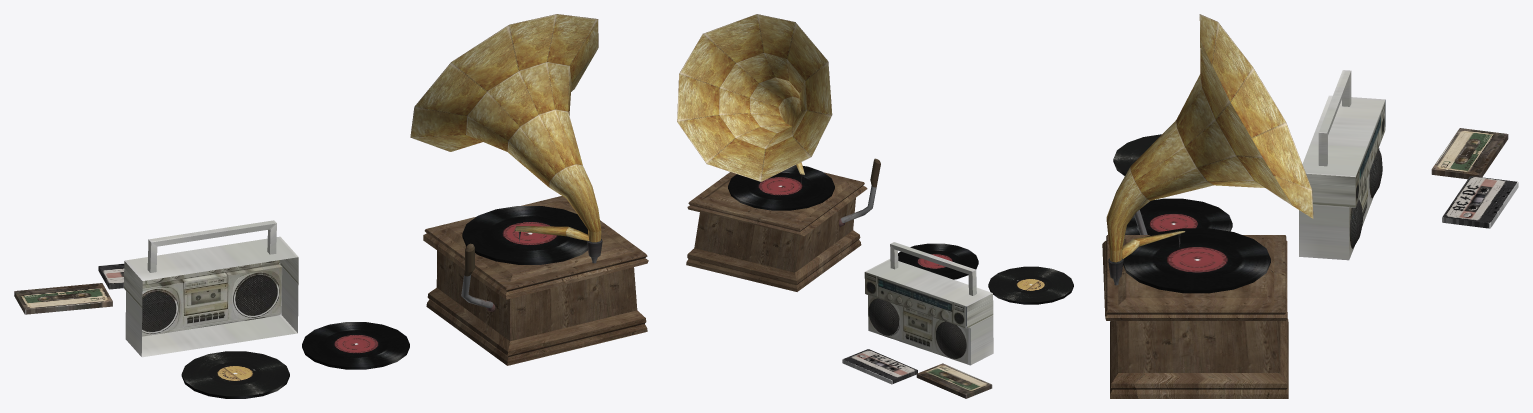
The model's file is Music_shop_items.fbx.
3 renders of one model, left to right at view 1: azimuth 30°, elevation 25°; view 2: azimuth 150°, elevation 25°; view 3: azimuth 270°, elevation 25°, orthographic. The views are drawn at different scales.
Visible parts, largest first — view 1: Plane.029, Plane.022, Cylinder.007, Cylinder.011, Cylinder.010, Plane.030, Plane.031; view 2: Plane.029, Plane.022, Cylinder.007, Cylinder.011, Cylinder.010, Plane.030, Plane.031; view 3: Plane.029, Plane.022, Cylinder.007, Cylinder.010, Plane.031, Plane.030, Cylinder.011.
Part boxes in pixels (x1,y1,x2,y2): Plane.029: (410,14,648,365); Plane.022: (124,220,298,357); Cylinder.007: (462,206,587,264); Cylinder.011: (181,351,289,398); Cylinder.010: (302,322,409,369); Plane.030: (14,283,112,314); Plane.031: (98,263,124,289); Plane.029: (677,14,880,291); Plane.022: (864,242,993,365); Cylinder.007: (728,165,834,210); Cylinder.011: (988,266,1073,304); Cylinder.010: (898,243,978,279); Plane.030: (916,363,992,398); Plane.031: (842,349,917,384); Plane.029: (1102,14,1313,398); Plane.022: (1299,70,1385,260); Cylinder.007: (1123,228,1270,293); Cylinder.010: (1125,198,1232,234); Plane.031: (1442,176,1518,228); Plane.030: (1431,128,1508,179); Cylinder.011: (1113,134,1161,175).
Bounding box in the file's own units: 260 × 176 × 155.
